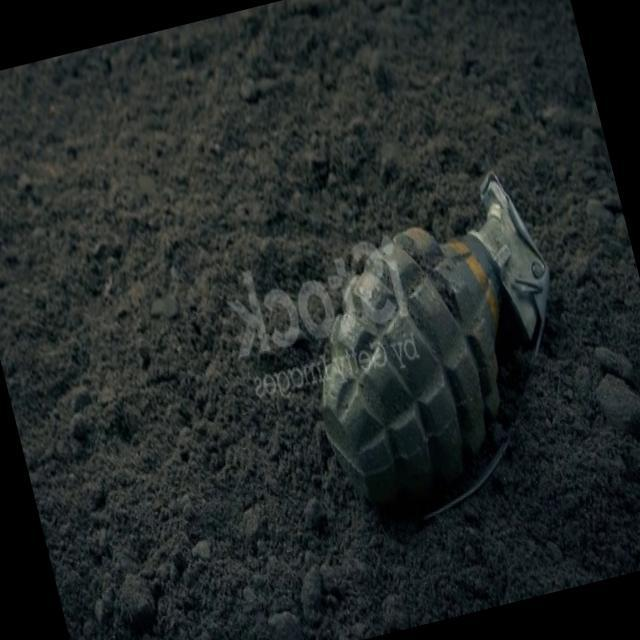grenade: (276, 166, 605, 546)
